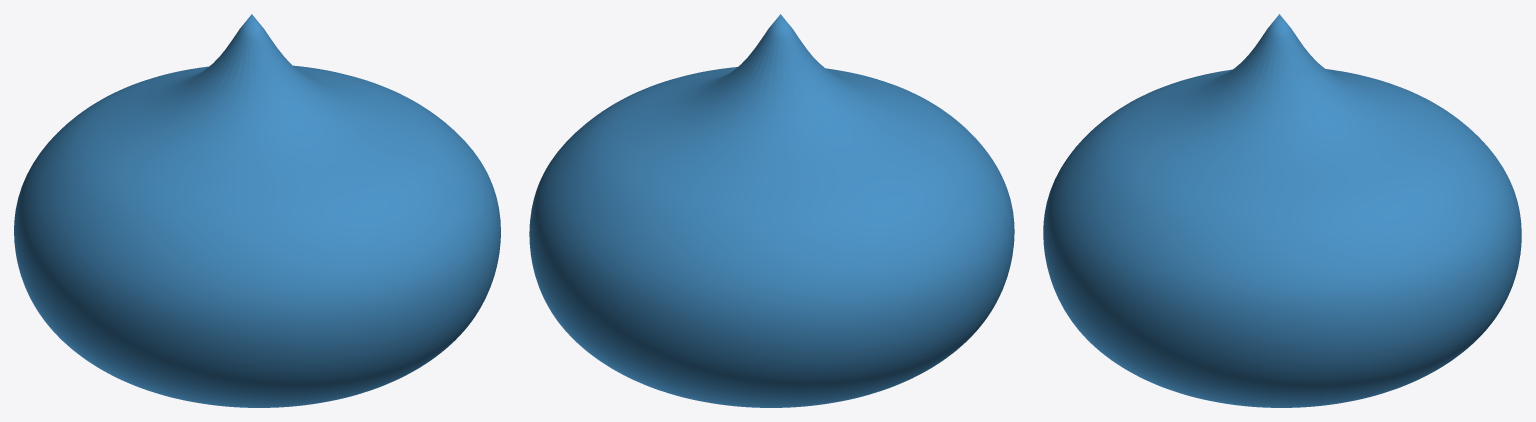
The model's file is slime.glb.
3 views of the same model, side by side, from view 1: azimuth 30°, elevation 25°; view 2: azimuth 150°, elevation 25°; view 3: azimuth 270°, elevation 25° (orthographic).
Visible parts, largest first — view 1: 球; view 2: 球; view 3: 球.
Part boxes in pixels (x1,y1,x2,y2): 球: (14, 14, 500, 407); 球: (529, 14, 1014, 407); 球: (1043, 14, 1521, 407).
Bounding box in the file's own units: 1.97 × 1.54 × 1.97.
